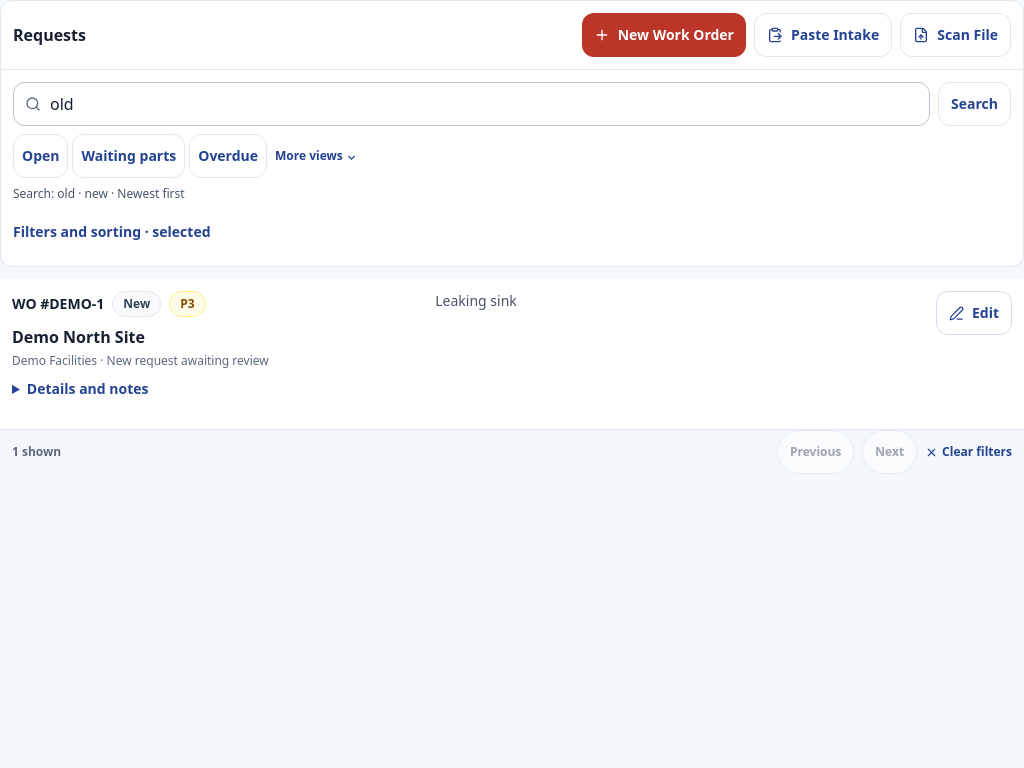
Test case: work-order intake and editing › opens the saved record even when it is outside the current queue filters
This screenshot has width=1024, height=768.
Click the button "New Work Order" at {"x": 664, "y": 35}, box [582, 13, 746, 57]
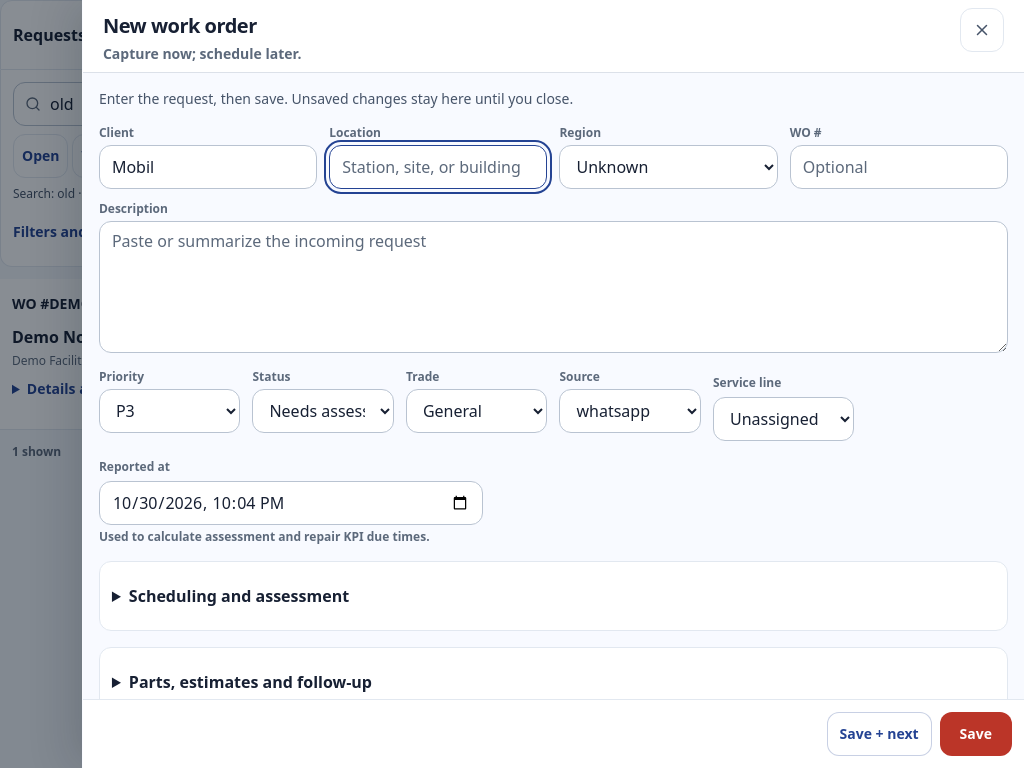
Replace the text in the field labelled "Client" with "Demo Facilities" at {"x": 208, "y": 167}, box [99, 145, 317, 189]
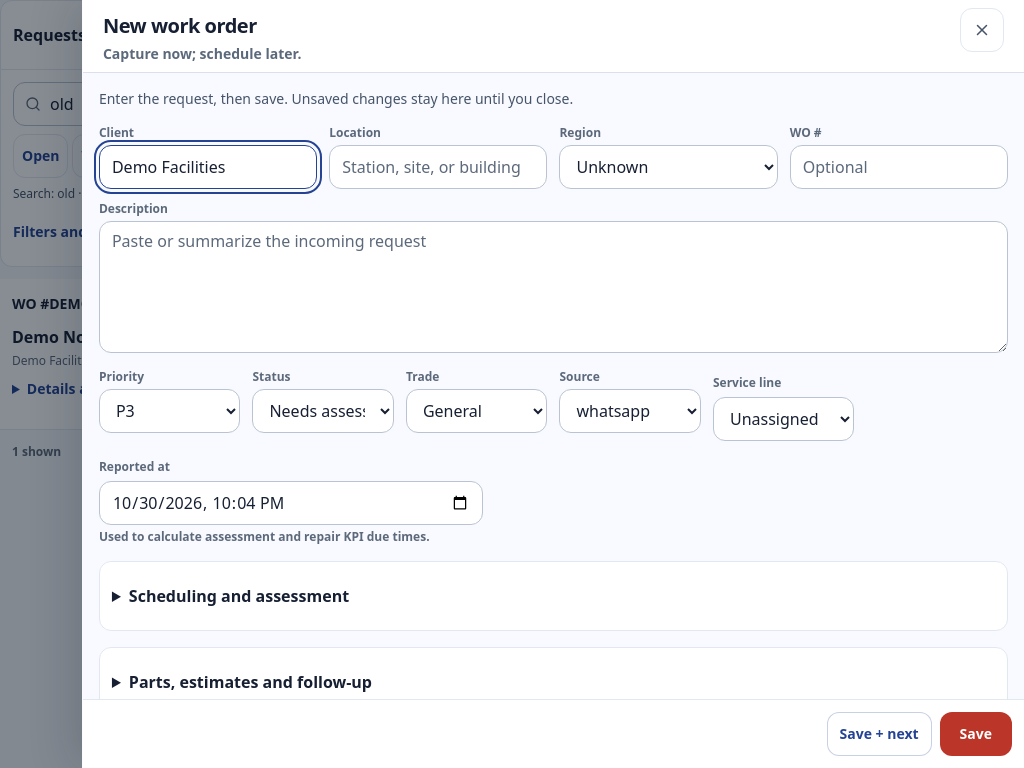
Type "Demo South Site" into the field labelled "Location" at {"x": 438, "y": 167}, box [329, 145, 548, 189]
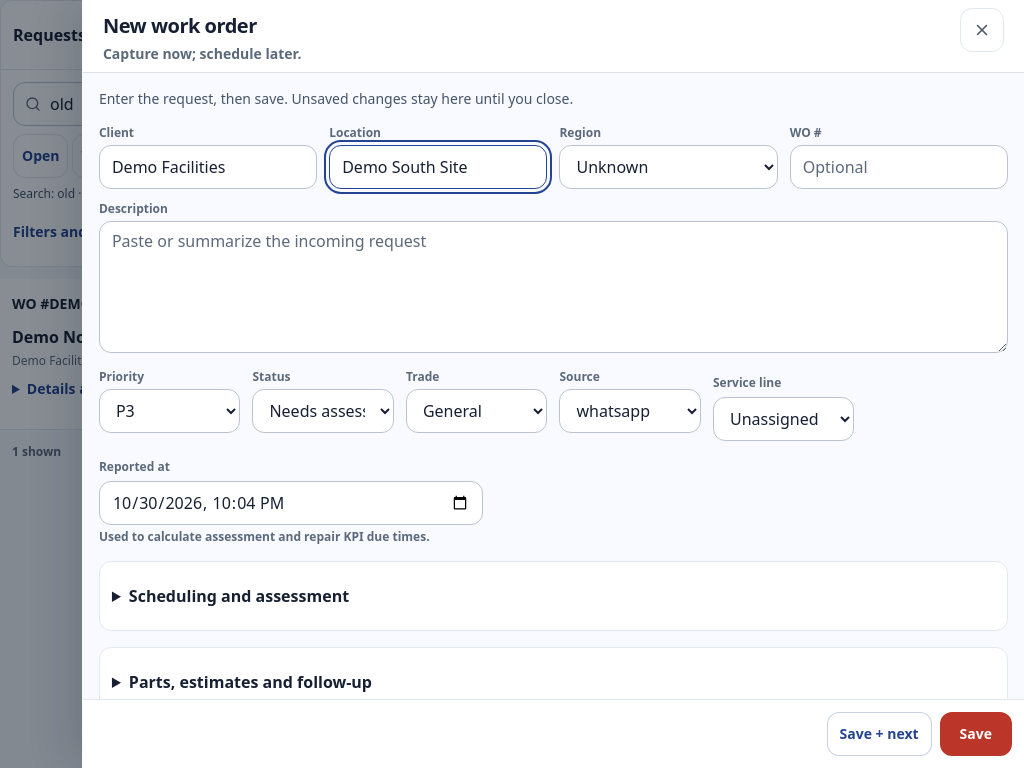
Type "Saved request" into the text box labelled "Description" at {"x": 553, "y": 287}, box [99, 221, 1008, 353]
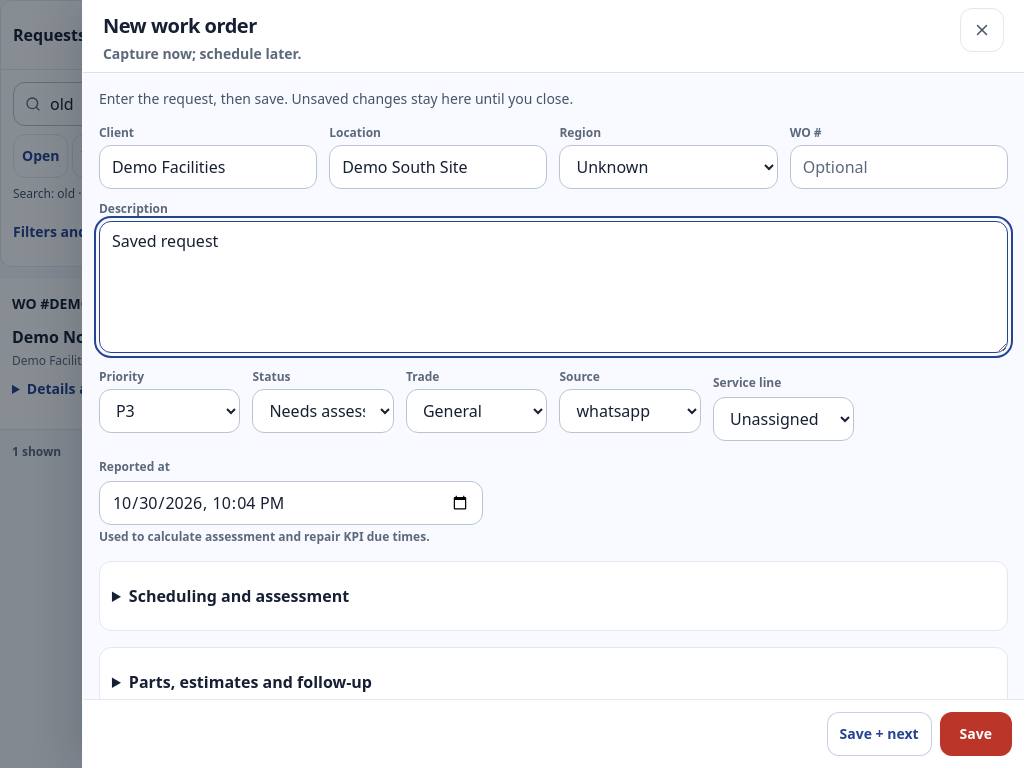
Click the button with aria-label "Save Work Order" at {"x": 976, "y": 734}, box [940, 712, 1012, 756]
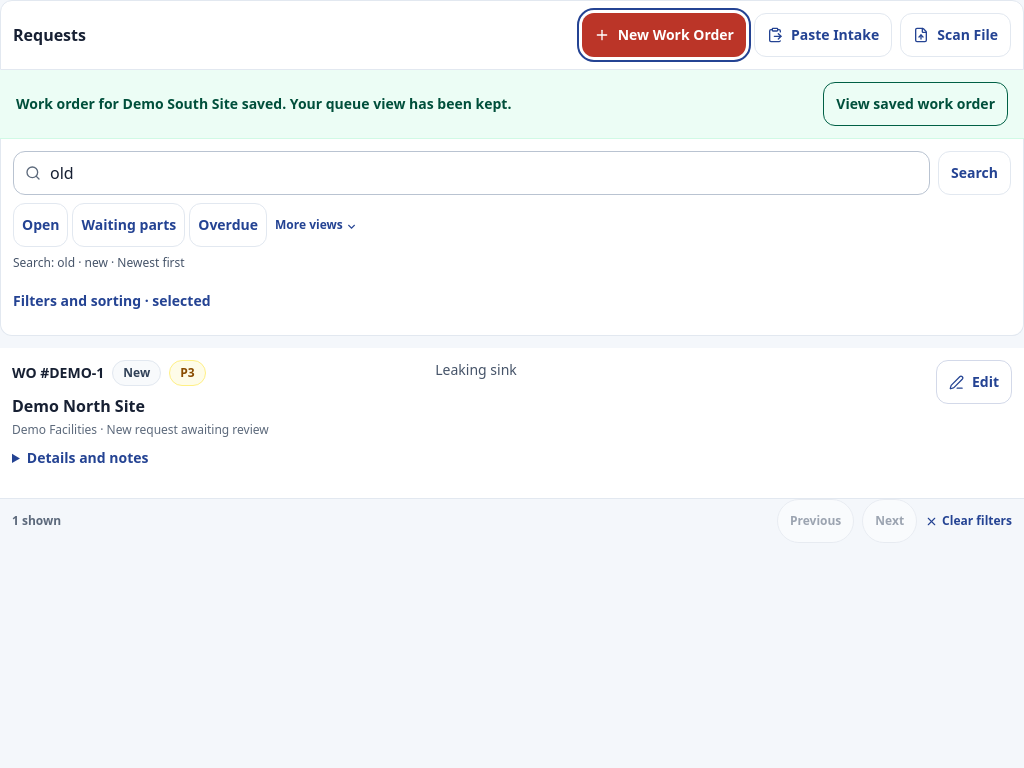
Click the button "View saved work order" at {"x": 916, "y": 104}, box [823, 82, 1008, 126]
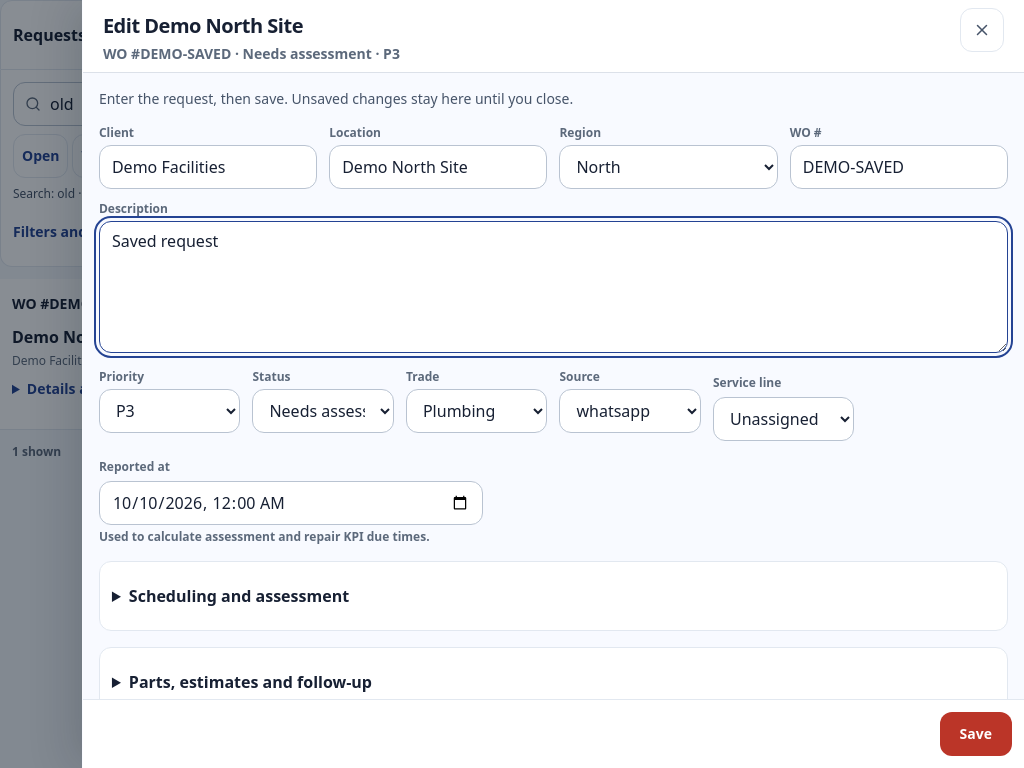
Expected: the field named "Search work orders" holds "old", [13, 82, 930, 126]
Expected: the text box labelled "Description" holds "Saved request", [99, 221, 1008, 353]
